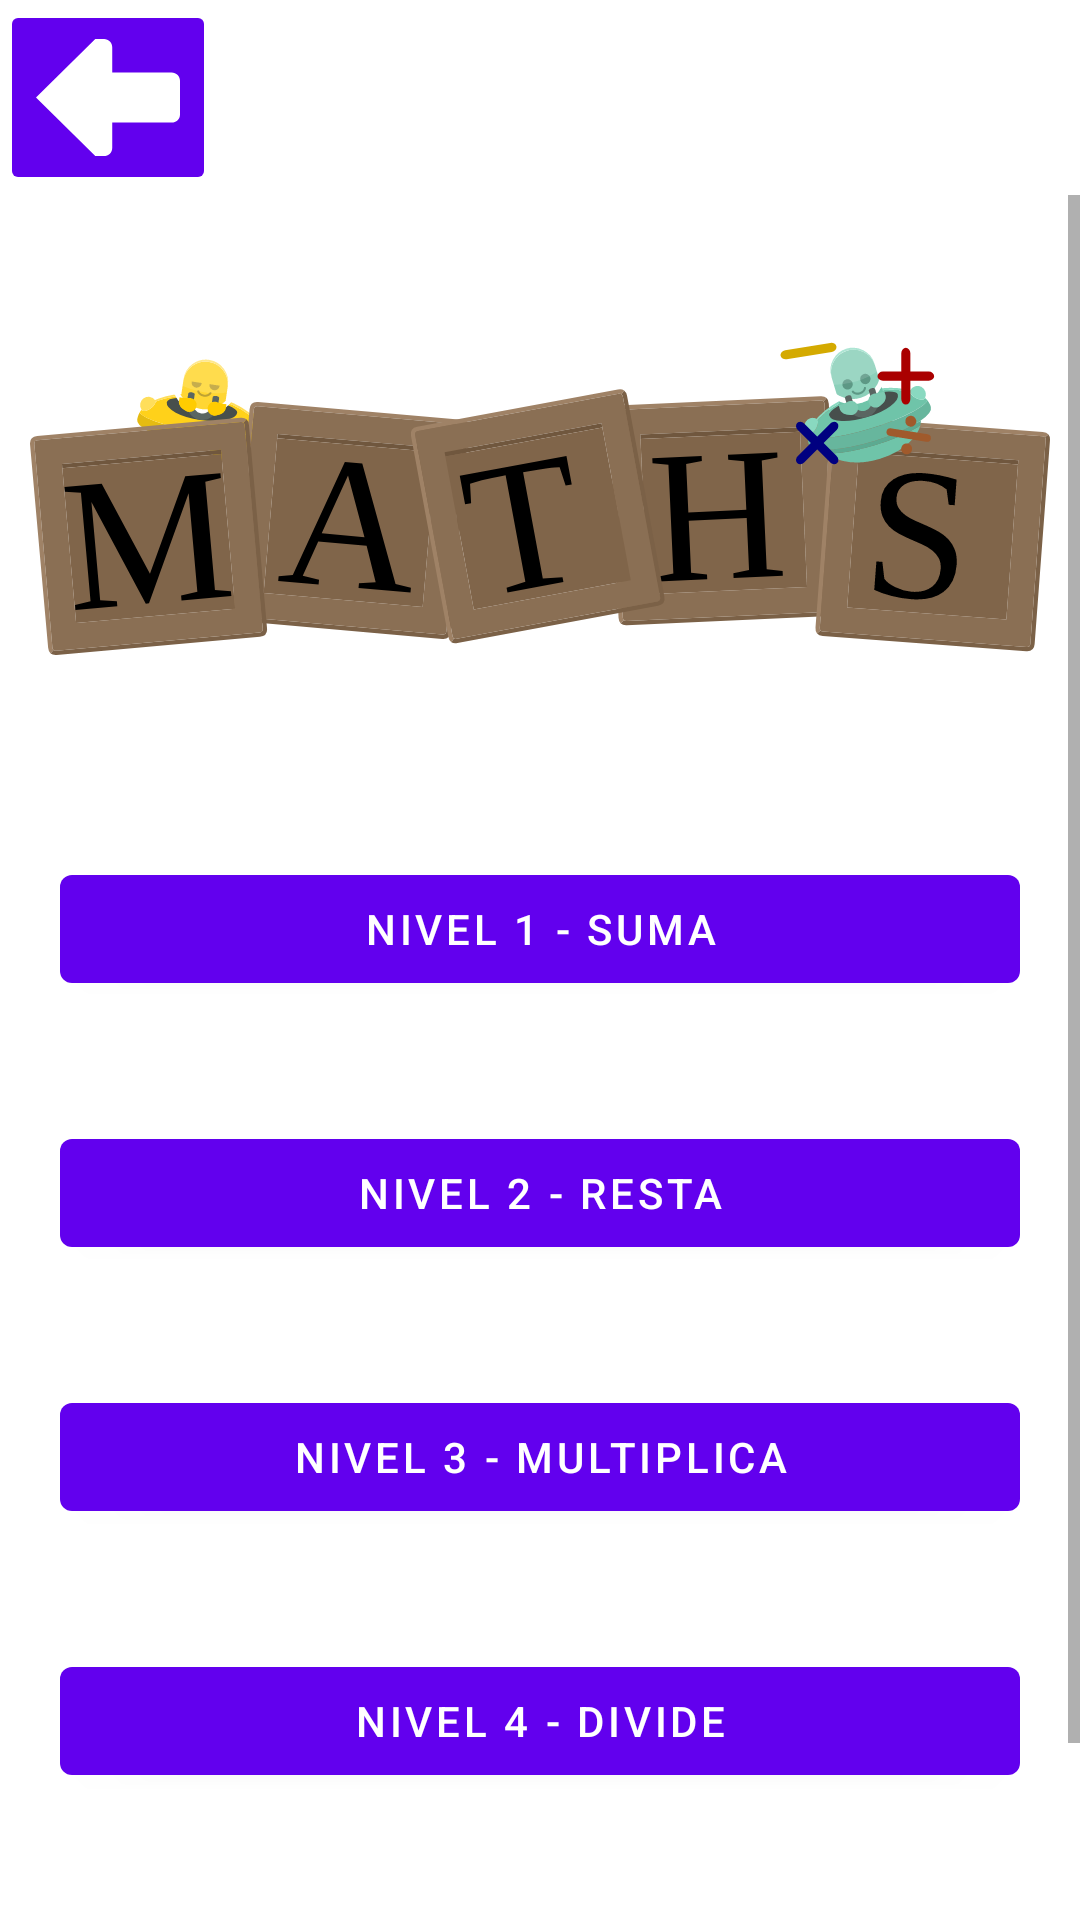

Screen size 1080 x 1920. Icon name, then its center in pixels as (x,y):
resource return: (108,97)
